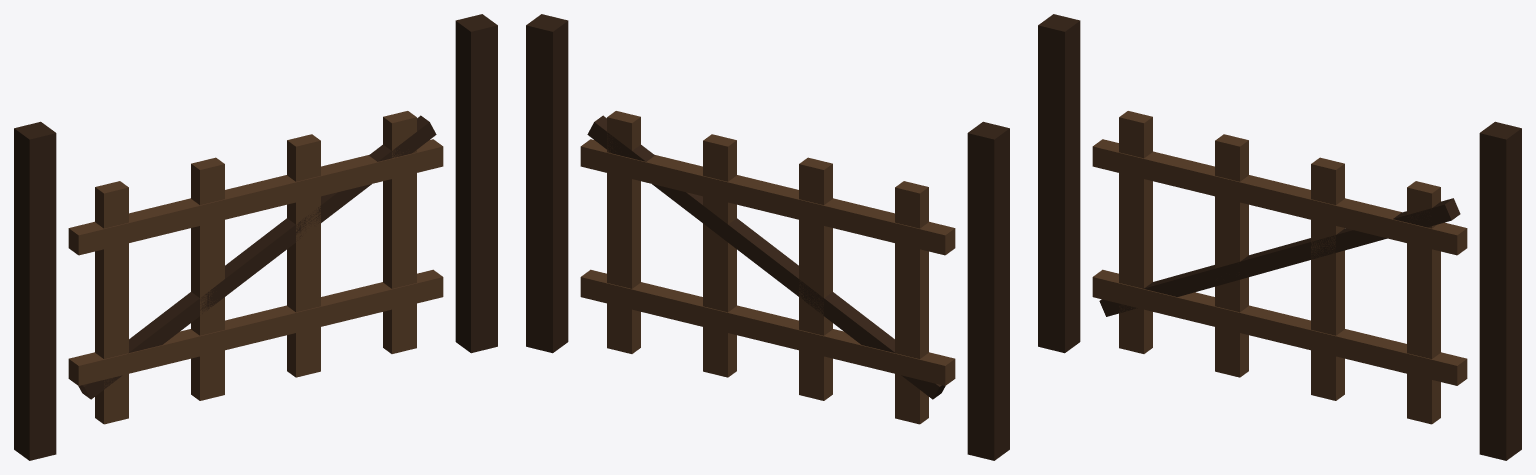
Rendered from AUR_Gate_2m.obj.
3 views of the same model, side by side, from view 1: azimuth 30°, elevation 25°; view 2: azimuth 150°, elevation 25°; view 3: azimuth 330°, elevation 25° (orthographic).
Parts seen in each view (by area): view 1: gatepost_0, gatepost_1, gate_rail_7, gate_rail_6, brace_8, slat_2, slat_4, slat_5, slat_3; view 2: gatepost_0, gatepost_1, gate_rail_7, gate_rail_6, brace_8, slat_2, slat_5, slat_3, slat_4; view 3: gatepost_0, gatepost_1, gate_rail_7, gate_rail_6, slat_2, slat_4, slat_5, slat_3, brace_8.
Part boxes in pixels (bbox=[...]): gatepost_0: bbox=[14, 121, 56, 460]; gatepost_1: bbox=[455, 14, 497, 353]; gate_rail_7: bbox=[68, 139, 443, 255]; gate_rail_6: bbox=[68, 269, 443, 385]; brace_8: bbox=[78, 115, 436, 399]; slat_2: bbox=[95, 181, 128, 424]; slat_4: bbox=[287, 134, 320, 377]; slat_5: bbox=[383, 111, 416, 353]; slat_3: bbox=[191, 157, 224, 400]; gatepost_0: bbox=[967, 121, 1009, 460]; gatepost_1: bbox=[526, 14, 568, 353]; gate_rail_7: bbox=[580, 139, 955, 255]; gate_rail_6: bbox=[580, 269, 955, 385]; brace_8: bbox=[587, 115, 945, 399]; slat_2: bbox=[895, 181, 928, 424]; slat_5: bbox=[607, 111, 640, 353]; slat_3: bbox=[799, 157, 832, 400]; slat_4: bbox=[703, 134, 736, 377]; gatepost_0: bbox=[1038, 14, 1080, 353]; gatepost_1: bbox=[1479, 121, 1521, 460]; gate_rail_7: bbox=[1092, 139, 1467, 255]; gate_rail_6: bbox=[1092, 269, 1467, 385]; slat_2: bbox=[1119, 111, 1152, 353]; slat_4: bbox=[1311, 157, 1344, 400]; slat_5: bbox=[1407, 181, 1440, 424]; slat_3: bbox=[1215, 134, 1248, 377]; brace_8: bbox=[1099, 198, 1460, 316].
Size of the model in its own units: 2.44 by 1.6 by 0.14.
